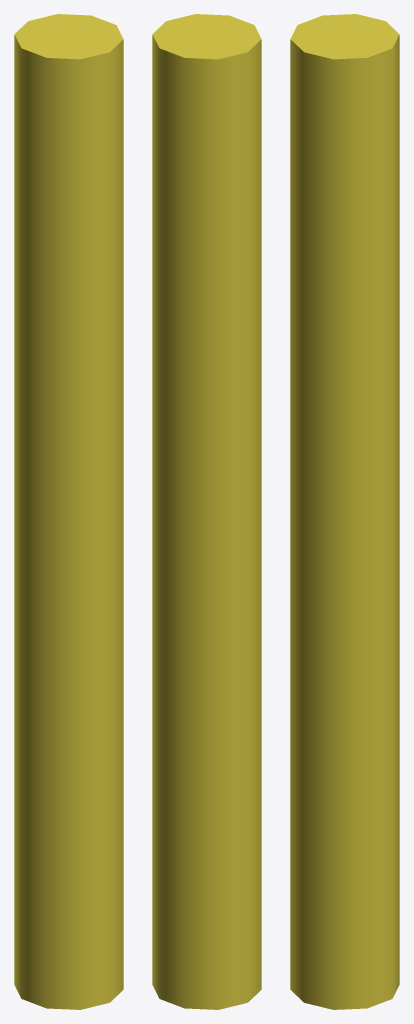
Rendered from fence export.fbx.
The picture shows the model from 3 angles, left to right: view 1: azimuth 30°, elevation 25°; view 2: azimuth 210°, elevation 25°; view 3: azimuth 330°, elevation 25°; orthographic projection.
Parts seen in each view (by area): view 1: Cylinder369; view 2: Cylinder369; view 3: Cylinder369.
Boxes of the visible parts, <box> form: Cylinder369: <box>14,14,123,1009</box>; Cylinder369: <box>152,14,261,1009</box>; Cylinder369: <box>290,14,399,1009</box>.
Size of the model in its own units: 10.05 by 95.99 by 9.56.
